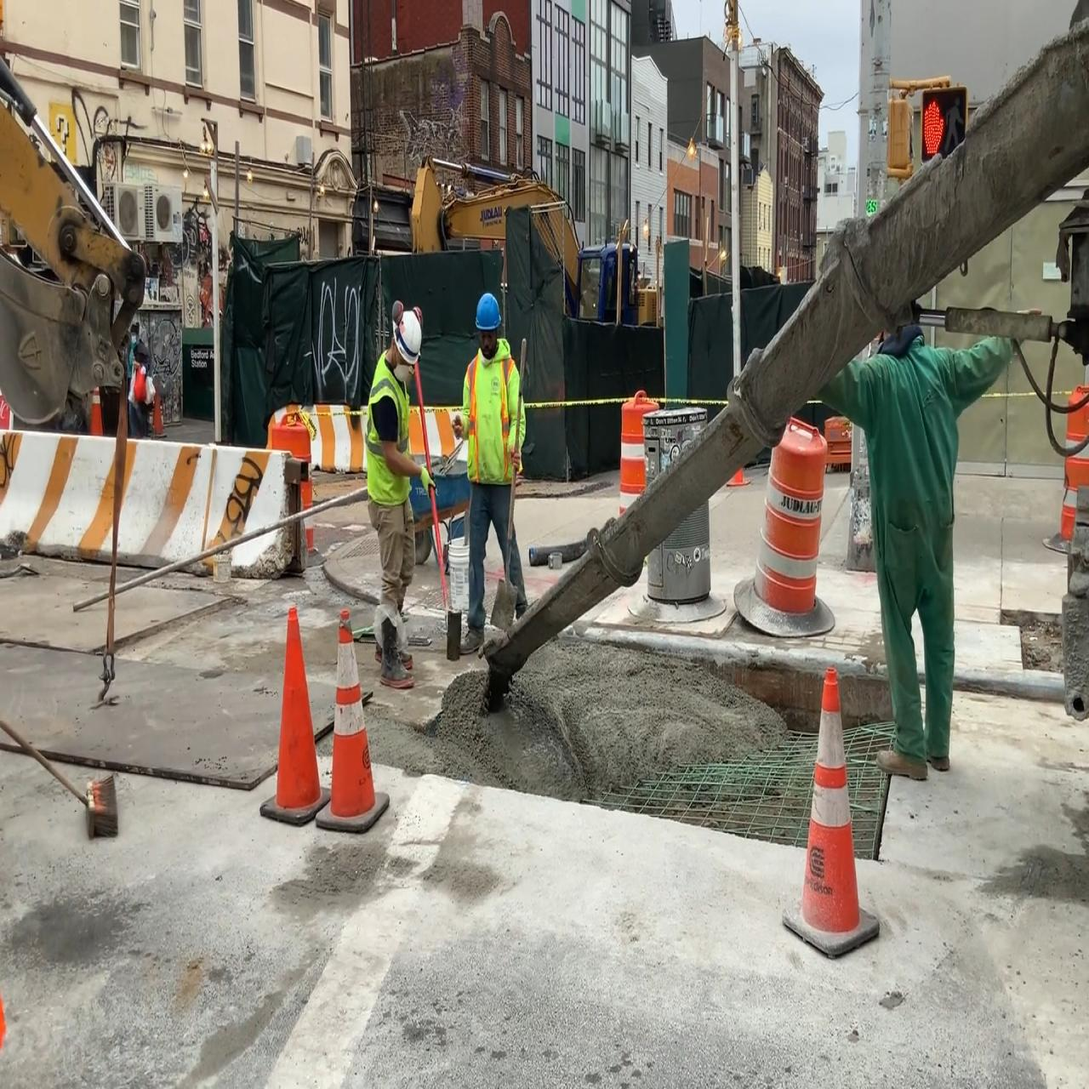NO_Safety_Vest: (868, 352, 955, 572), (128, 342, 145, 392)
Person: (818, 274, 1046, 783), (453, 294, 532, 658), (366, 308, 437, 691), (125, 319, 154, 437)
Safety_Vest: (366, 361, 416, 512), (467, 352, 520, 485)
